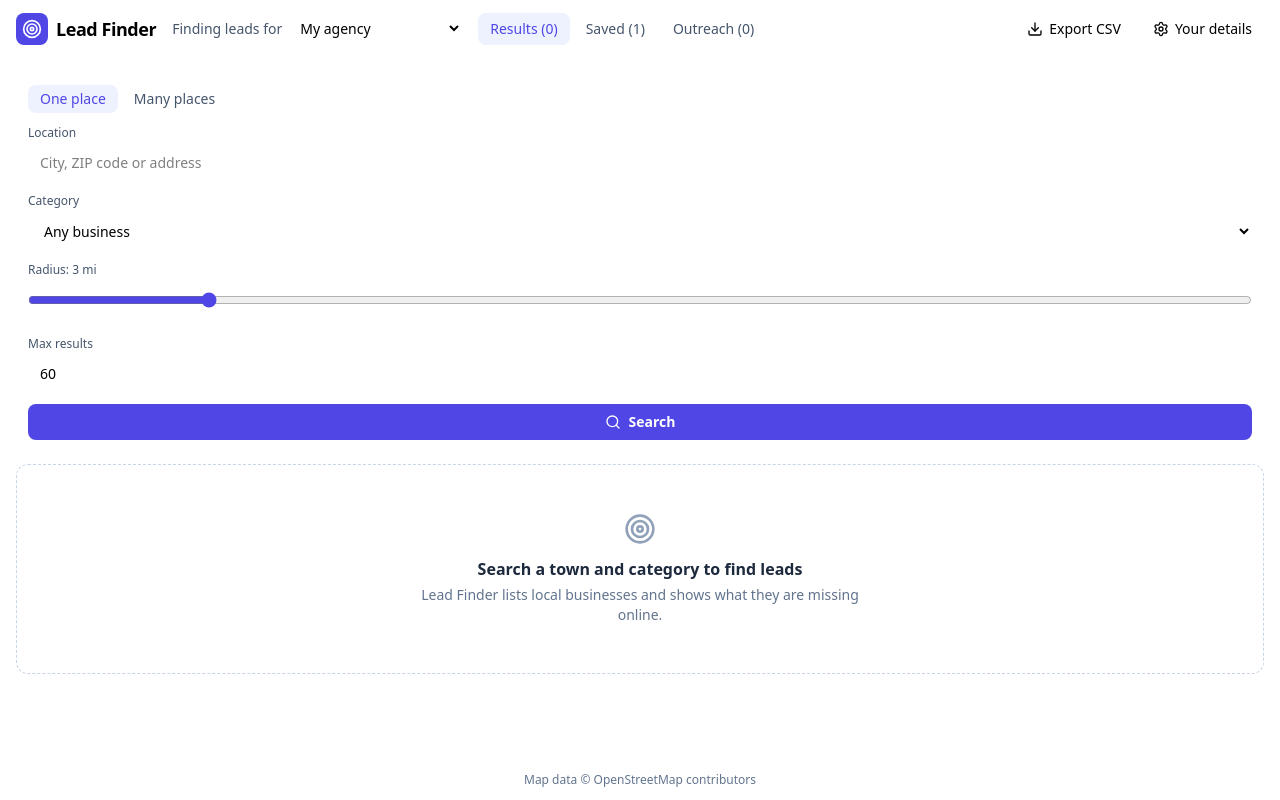
Test: replies › sends no alerts or CRM updates when nothing is set up
The width and height of the screenshot is (1280, 800).
Click the button "Outreach (0)".
click(714, 28)  # box [661,12,766,44]
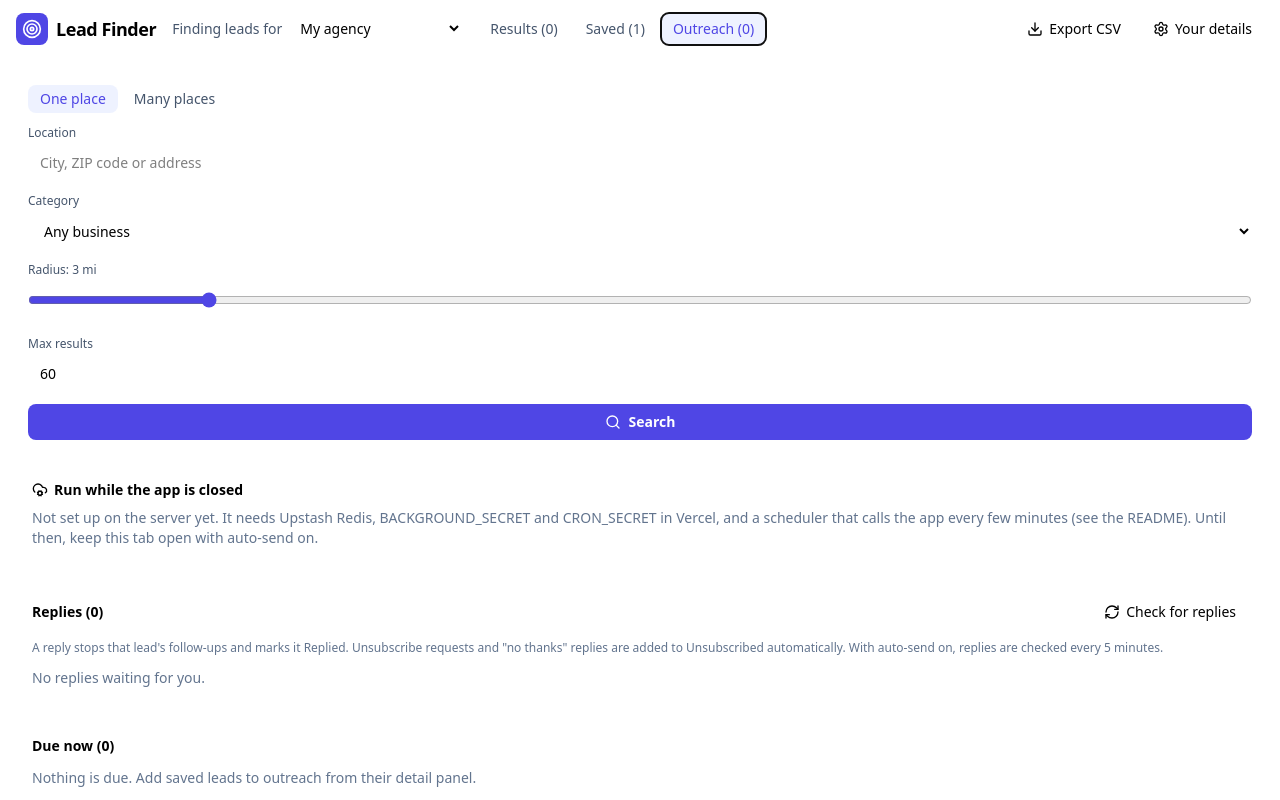
Click the button "Check for replies".
click(1170, 612)  # box [1092,596,1248,628]
(page scrolled)
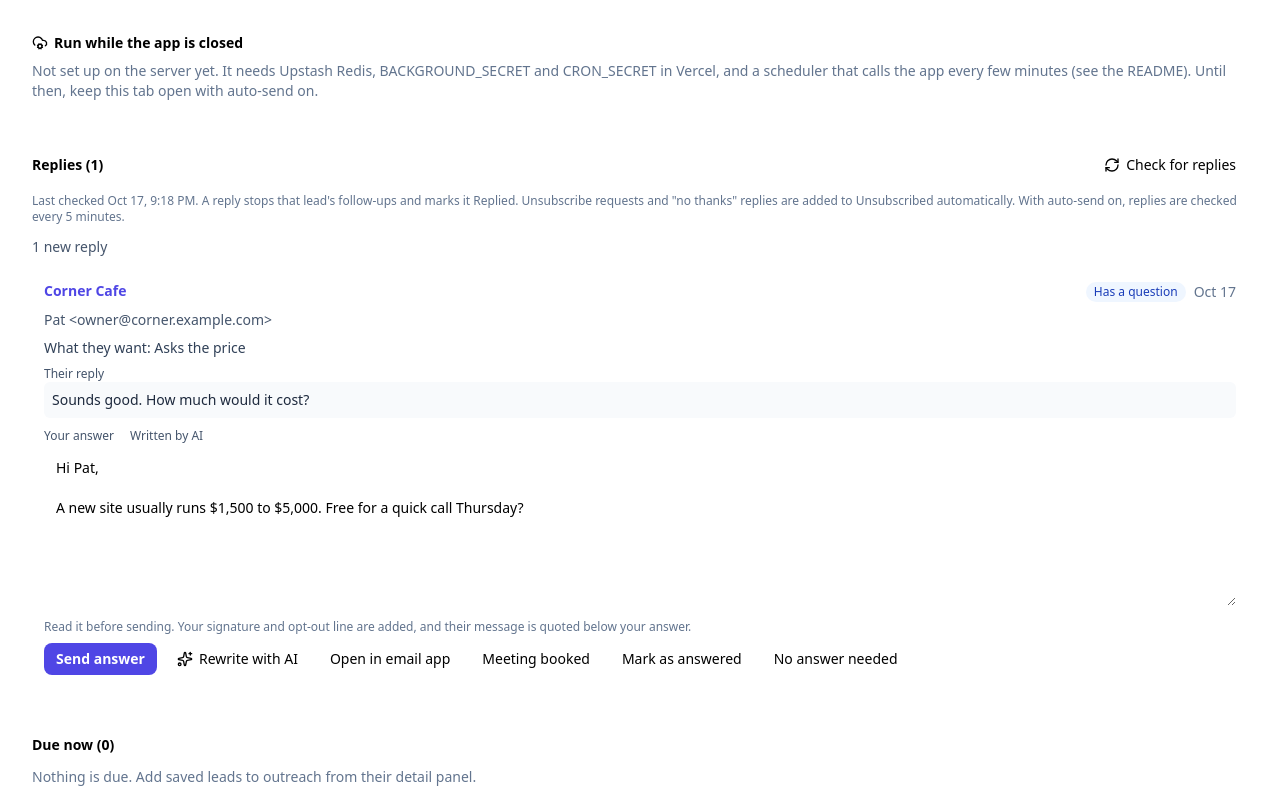
Result: the text "Sounds good. How much would it cost?" is shown at [44,382,1236,418]
